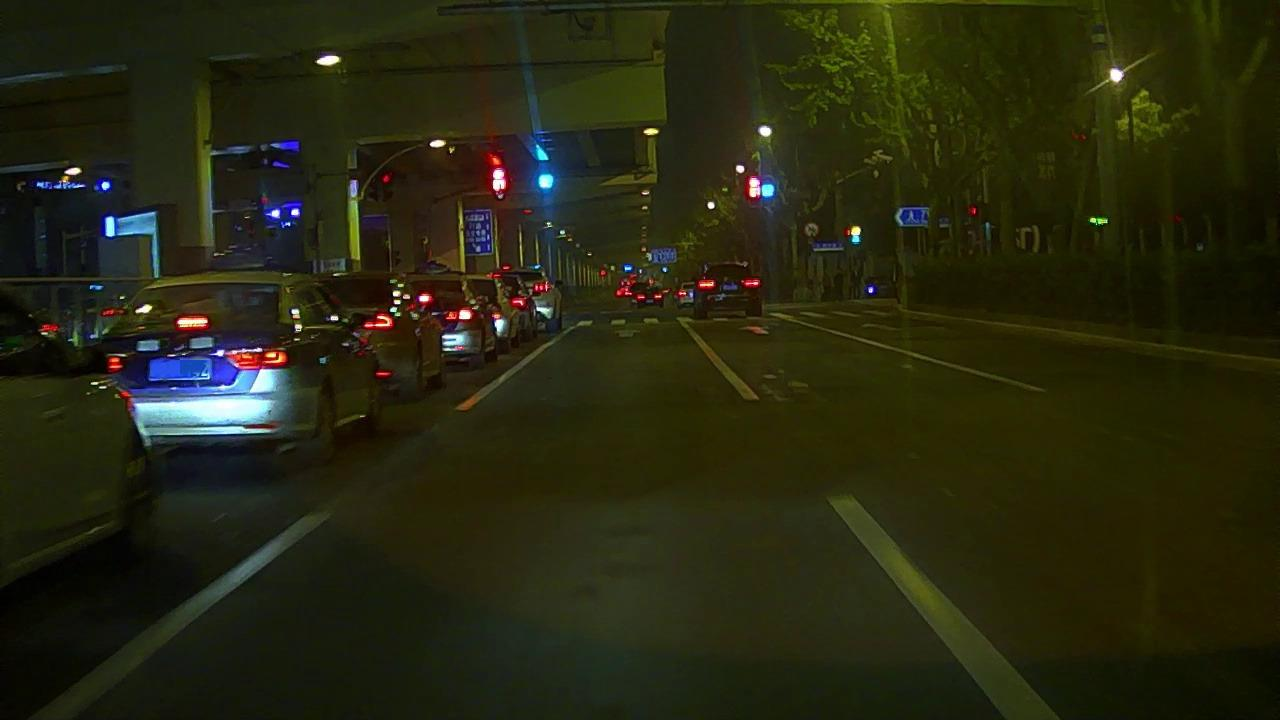traffic_light: (493, 170, 504, 192), (748, 175, 760, 195), (760, 184, 775, 196), (540, 172, 553, 185)
